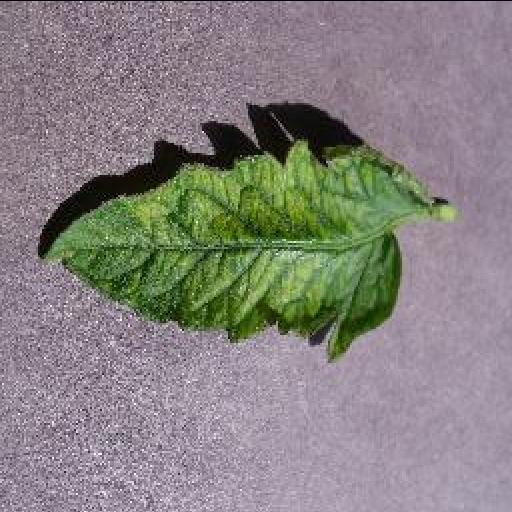Mosaic Virus: (36, 138, 430, 372)
